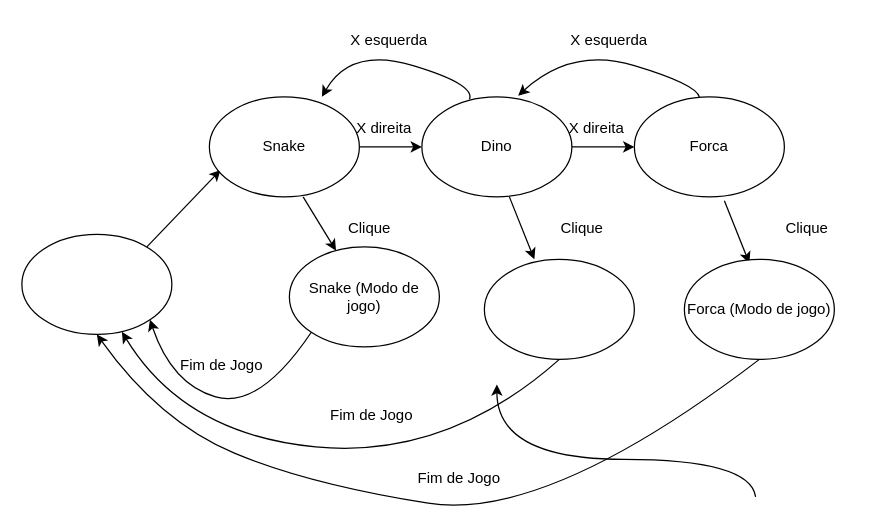
This 881x528 diagram has some shape labels left out. Each missing label, with the centre of its shape:
"Dino (Modo de jogo)" belongs at (x=558, y=308).
"Menu" belongs at (x=96, y=283).
